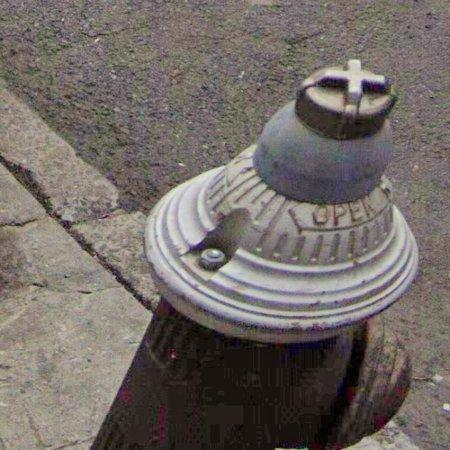a fire hydrant: (92, 60, 419, 450)
